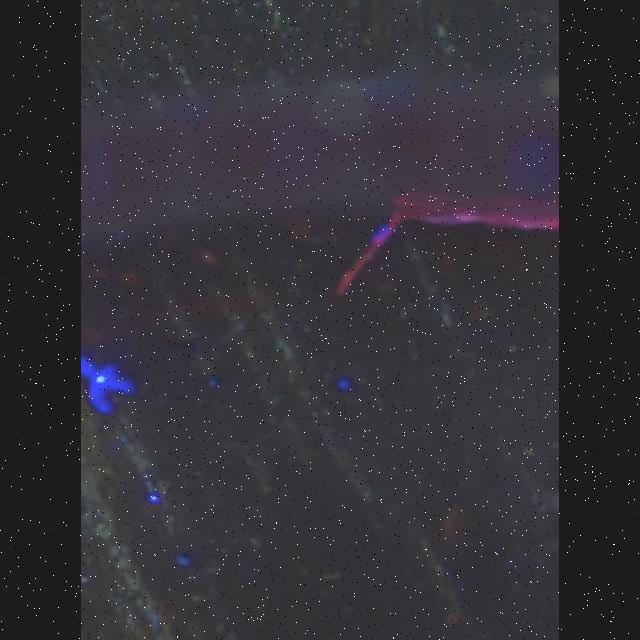Fibre: (338, 208, 400, 294)
